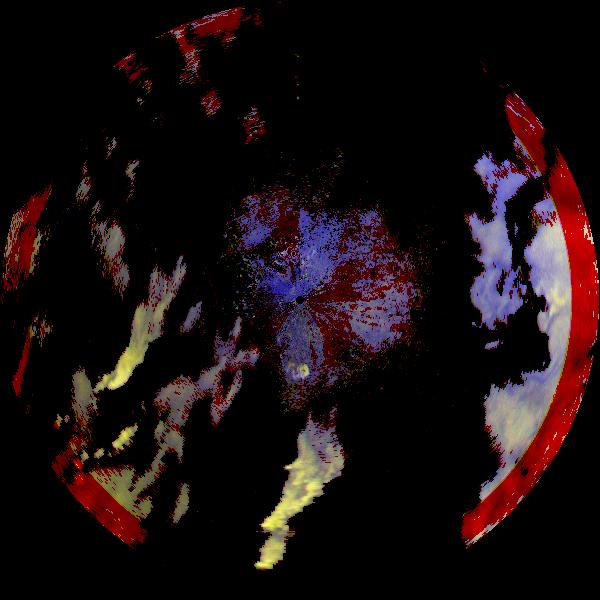roost: (295, 363, 313, 381)
